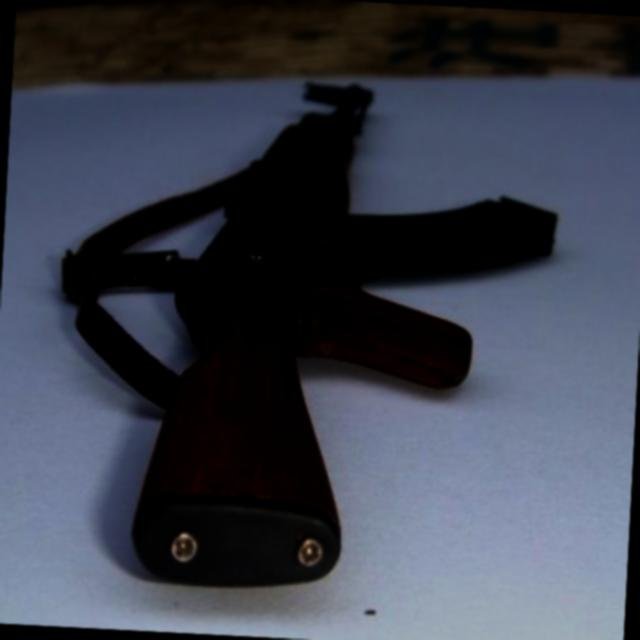ak: (126, 79, 569, 606)
